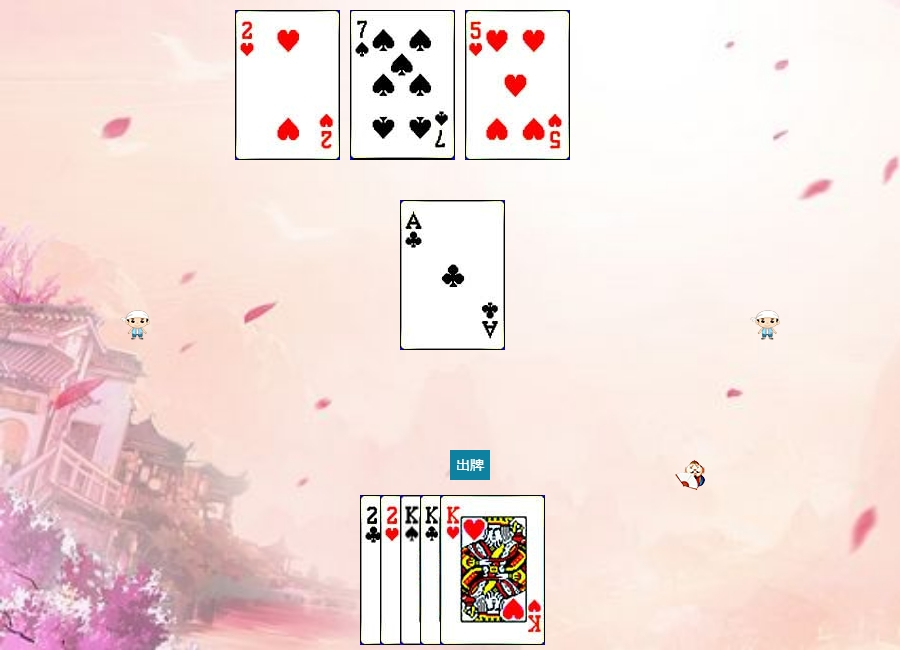13~2: (420, 495, 525, 645)
13~3: (440, 495, 545, 645)
13~4: (400, 495, 505, 645)
14~2: (400, 200, 505, 350)
15~2: (360, 495, 465, 645)
15~3: (235, 10, 340, 160), (380, 495, 485, 645)
5~3: (465, 10, 570, 160)
7~4: (350, 10, 455, 160)
